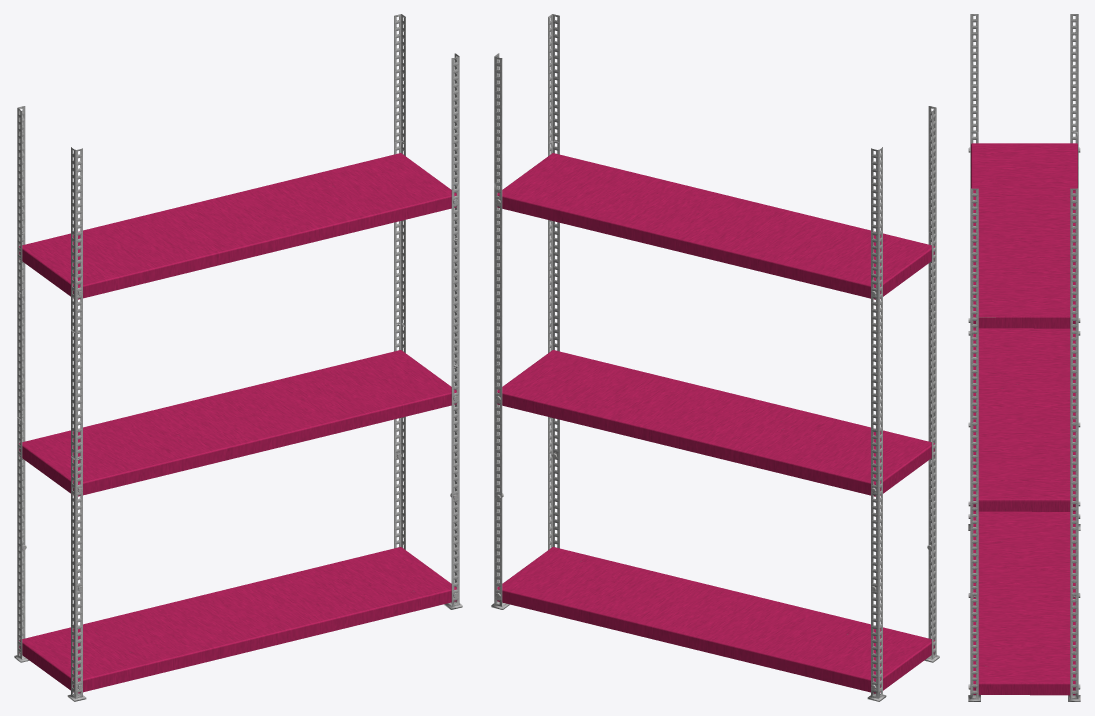
The model's file is Shelf.glb.
The picture shows the model from 3 angles, left to right: view 1: azimuth 30°, elevation 25°; view 2: azimuth 150°, elevation 25°; view 3: azimuth 270°, elevation 25°; orthographic projection. The views are drawn at different scales.
Parts seen in each view (by area): view 1: Shelves_Brushed metal_0.001, Shelves; view 2: Shelves_Brushed metal_0.001, Shelves; view 3: Shelves_Brushed metal_0.001, Shelves.
Boxes of the visible parts, left/top/right/bottom form: Shelves_Brushed metal_0.001: left=19, top=153, right=456, bottom=693; Shelves: left=14, top=14, right=462, bottom=701; Shelves_Brushed metal_0.001: left=497, top=153, right=934, bottom=693; Shelves: left=491, top=14, right=939, bottom=701; Shelves_Brushed metal_0.001: left=971, top=143, right=1077, bottom=695; Shelves: left=968, top=14, right=1080, bottom=701.
Bounding box in the file's own units: 8.66 × 11.73 × 2.33.
2 materials, 2 textured.
